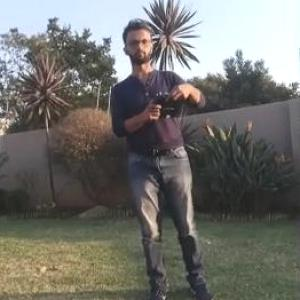follow: (106, 9, 221, 299)
